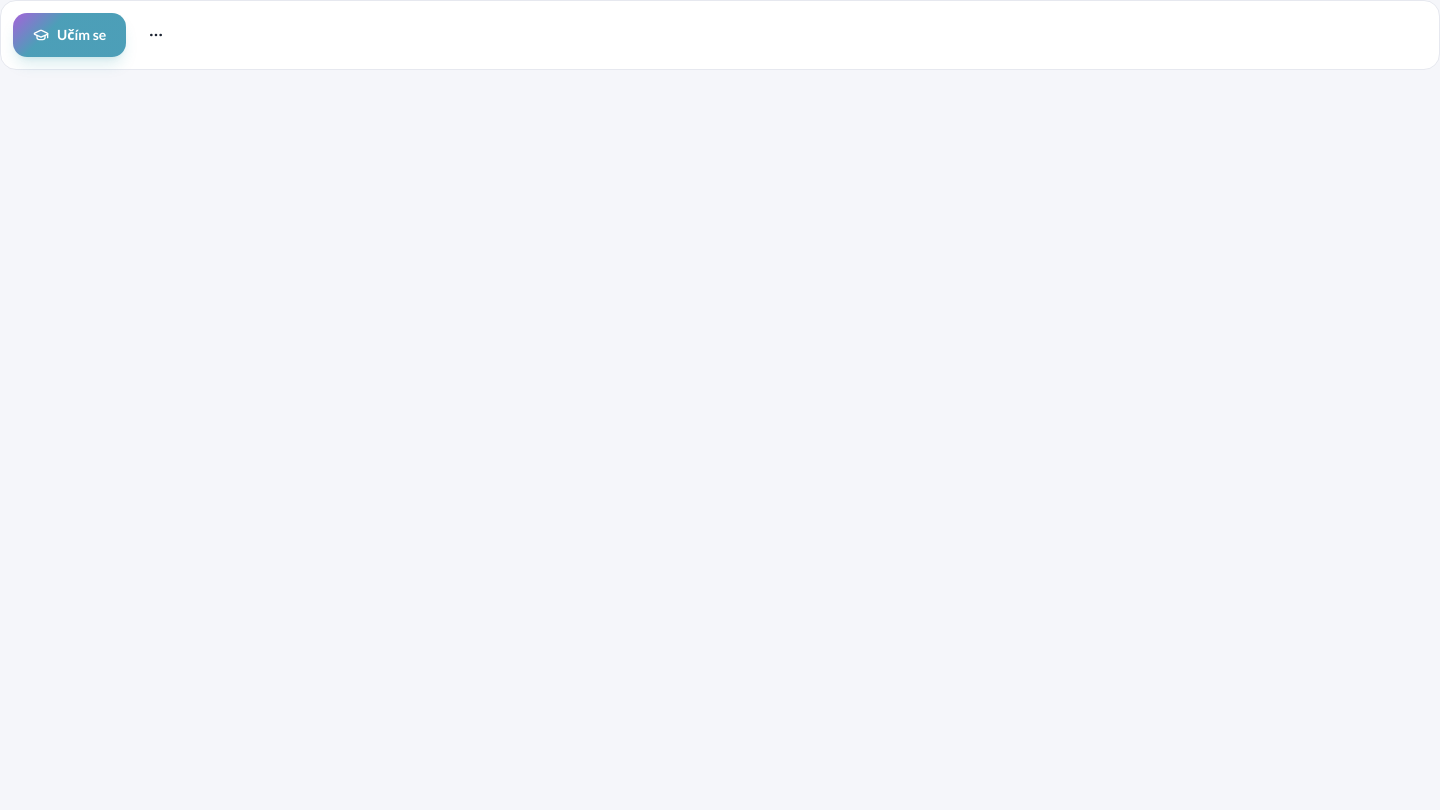
Scenario: LessonStudyBar – Učím se › panel má dvě sekce a 8 technik s odkazem na lekci
The width and height of the screenshot is (1440, 810).
Click the button "Učím se" at (70, 35), box top-left (13, 13), bottom-right (126, 57)
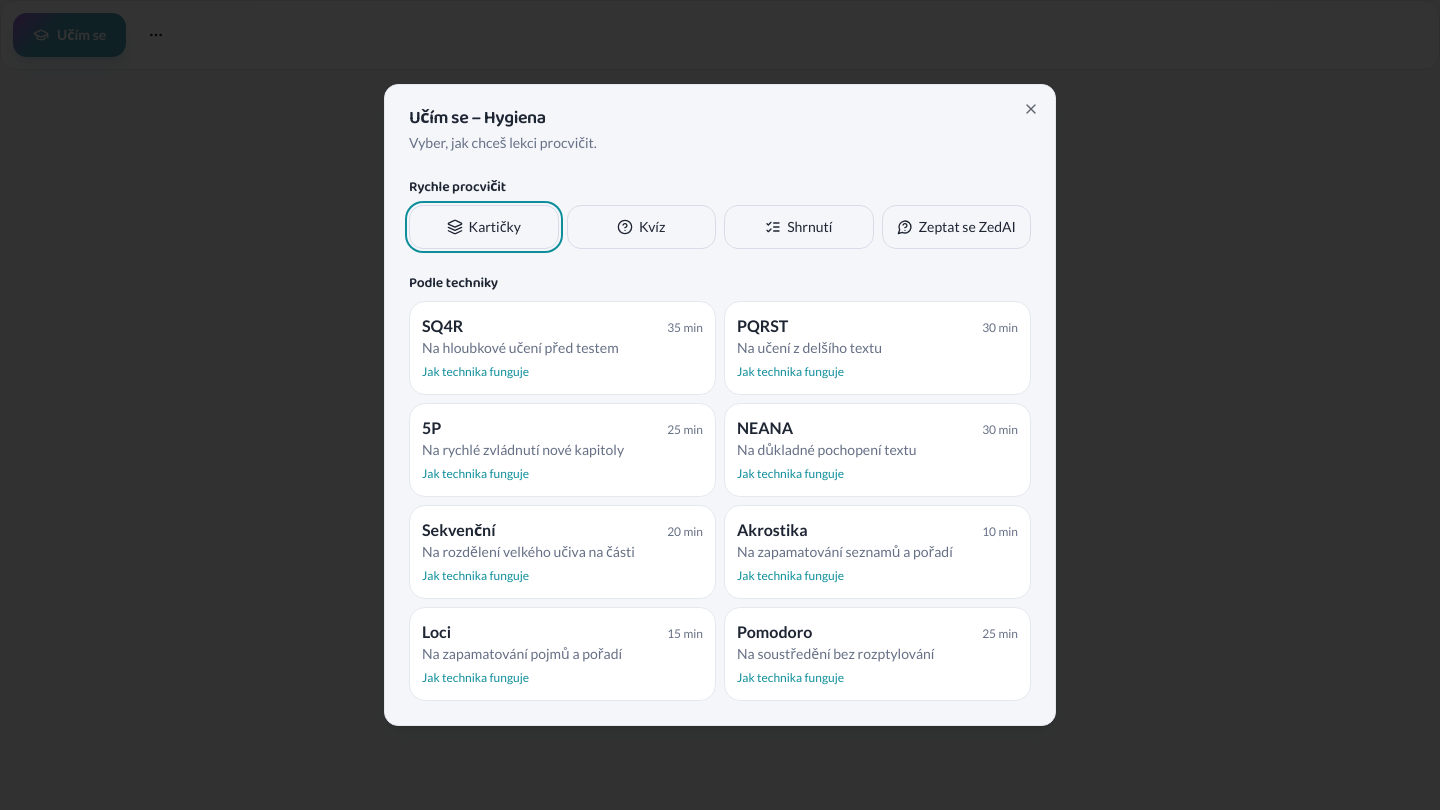
Check: the heading "Rychle procvičit" is shown, box top-left (409, 176), bottom-right (506, 198)
Check: the heading "Podle techniky" is shown, box top-left (409, 272), bottom-right (498, 294)
Check: the number of links "Jak technika funguje" is 8
